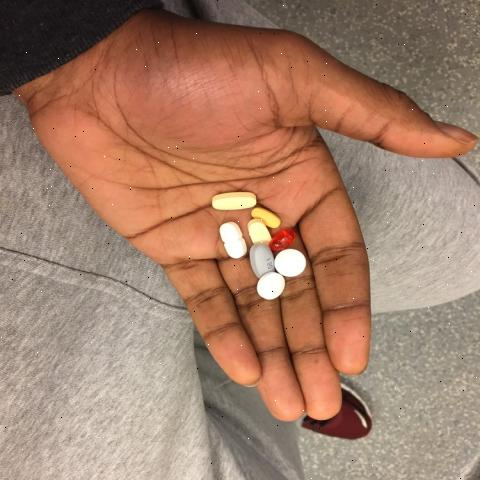Pill: (207, 181, 258, 221), (213, 212, 251, 262), (274, 247, 316, 280), (254, 268, 289, 303)
